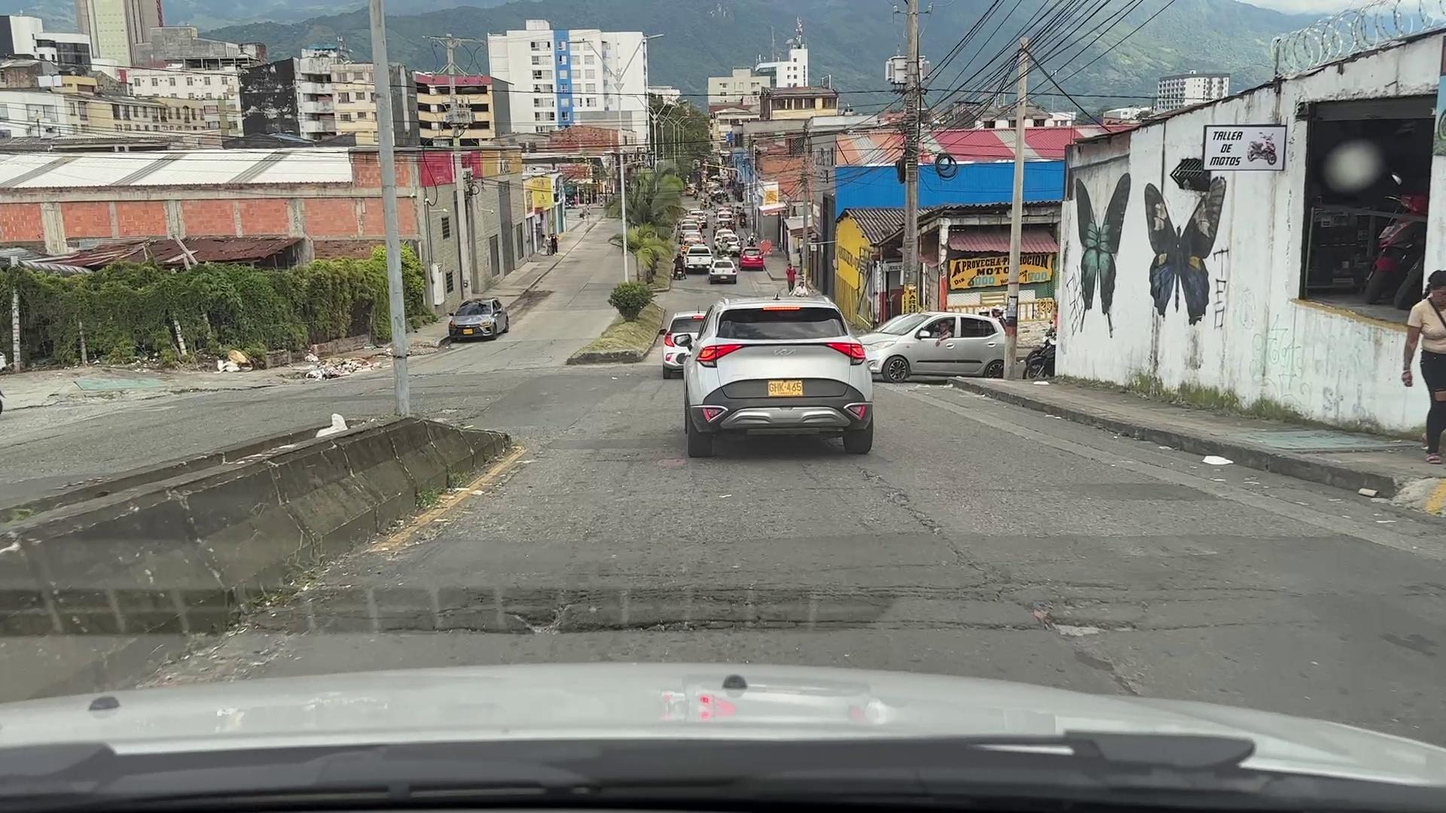bache: (397, 606, 711, 634), (962, 610, 1134, 637)
grieta: (851, 466, 1122, 606)
